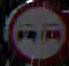No overtake: (7, 0, 65, 65)
